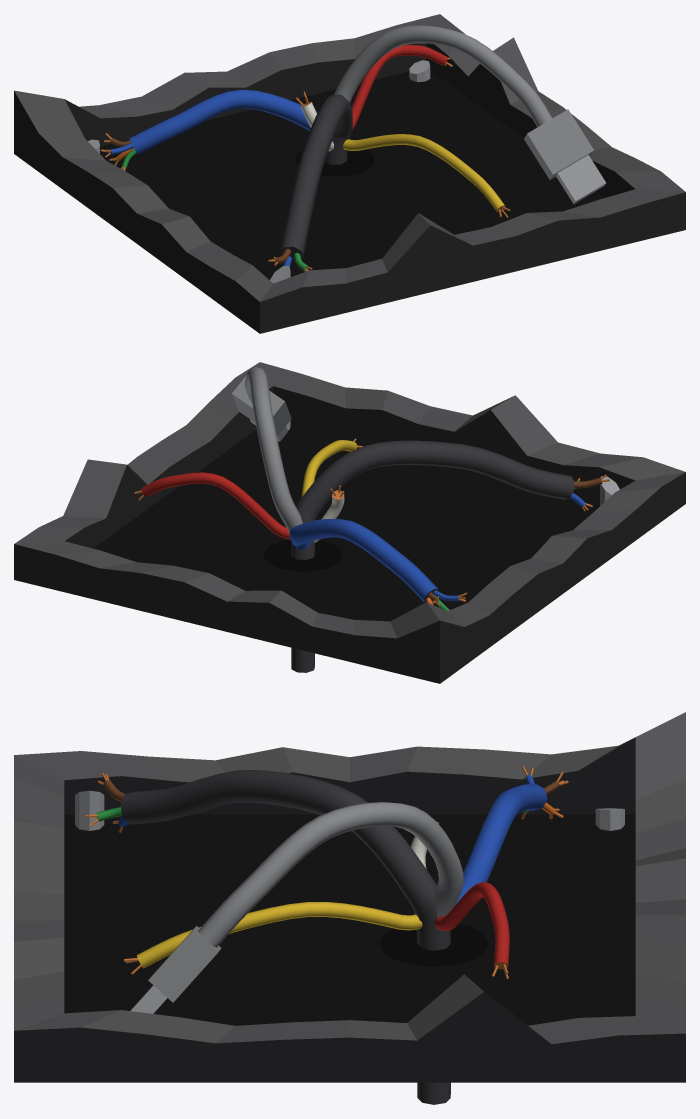
File: hueco_del_lector.glb
3 views of the same model, one above another, from view 1: azimuth 30°, elevation 25°; view 2: azimuth 150°, elevation 25°; view 3: azimuth 270°, elevation 25° (orthographic). The views are drawn at different scales.
Parts seen in each view (by area): view 1: hueco_del_lector; view 2: hueco_del_lector; view 3: hueco_del_lector.
Boxes of the visible parts, <box> form: hueco_del_lector: <box>14,14,685,333</box>; hueco_del_lector: <box>14,362,685,683</box>; hueco_del_lector: <box>14,712,685,1104</box>.
Bounding box in the file's own units: 0.16 × 0.0895 × 0.16.
Materials: 2 (2 with a texture image).
